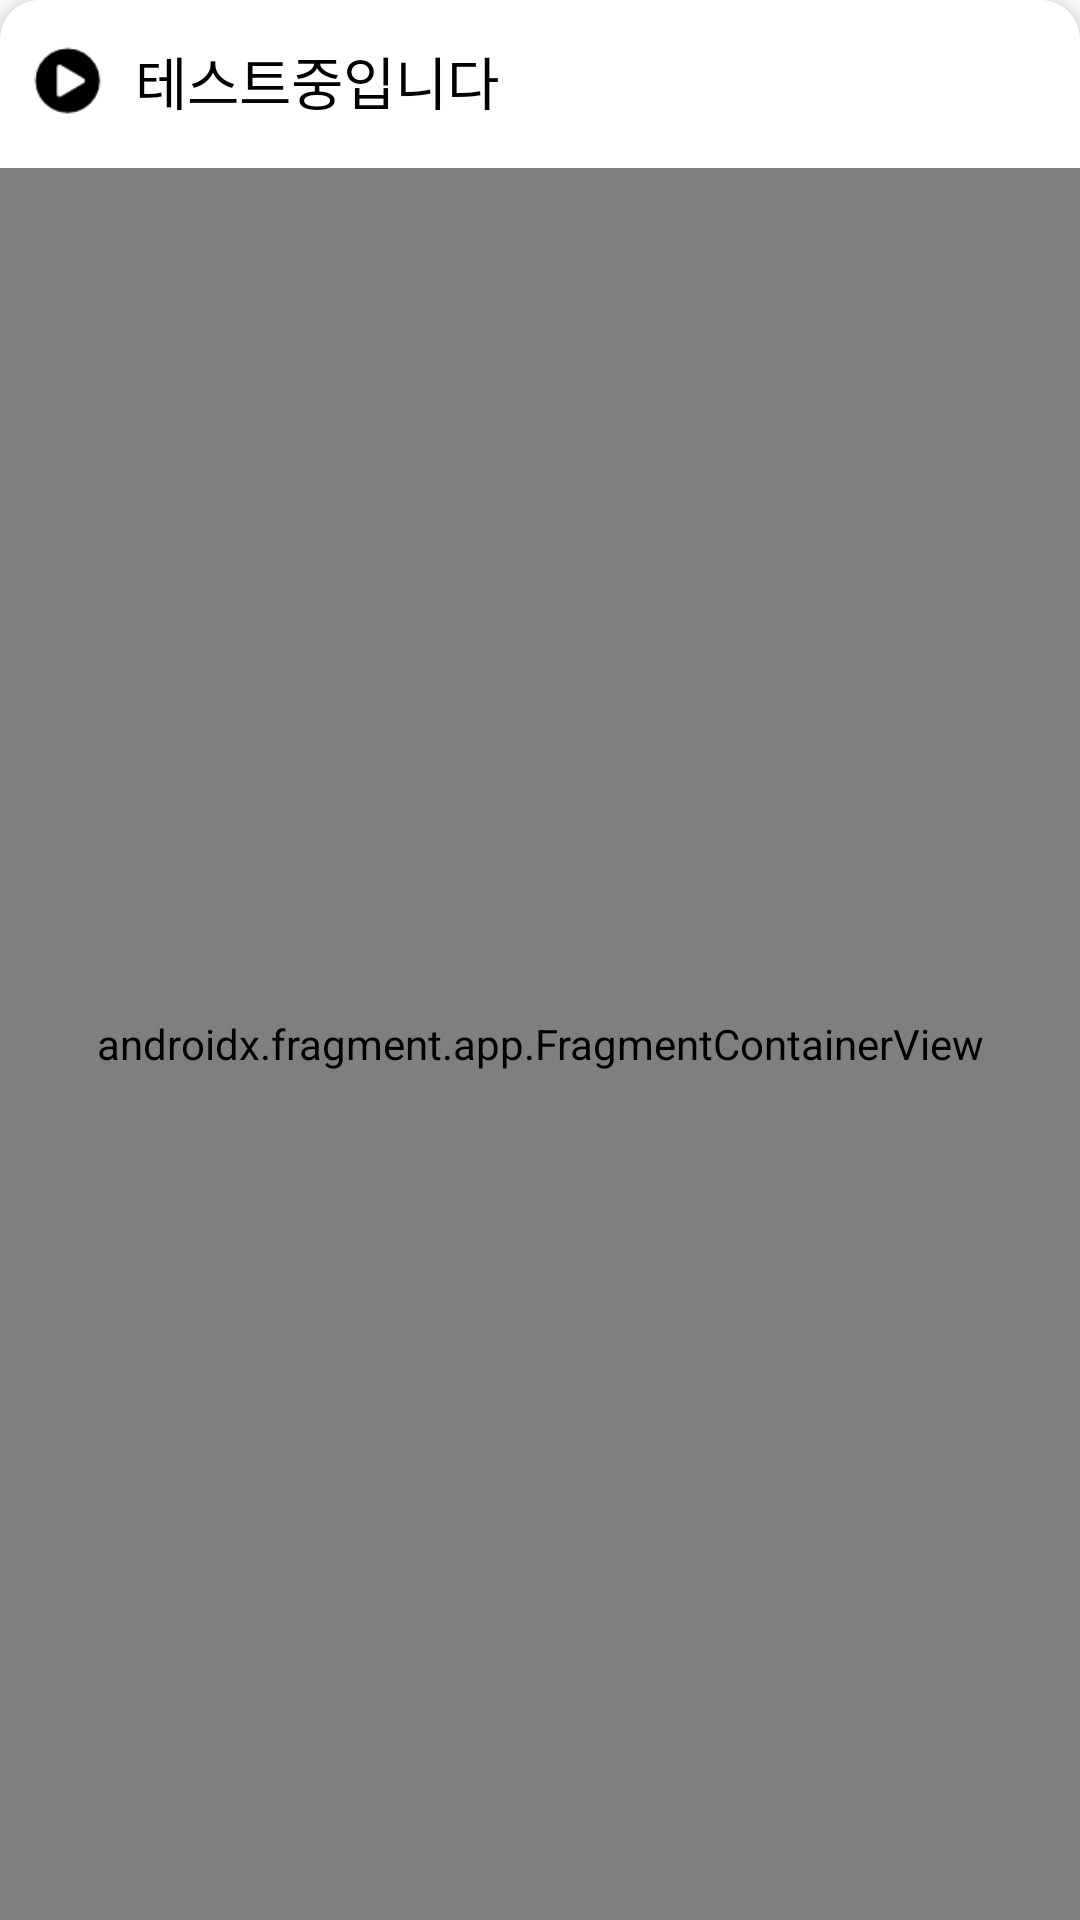

Screen size 1080w x 1920h. Icon name, then its center in pixels as (x,y):
play: (67,80)
